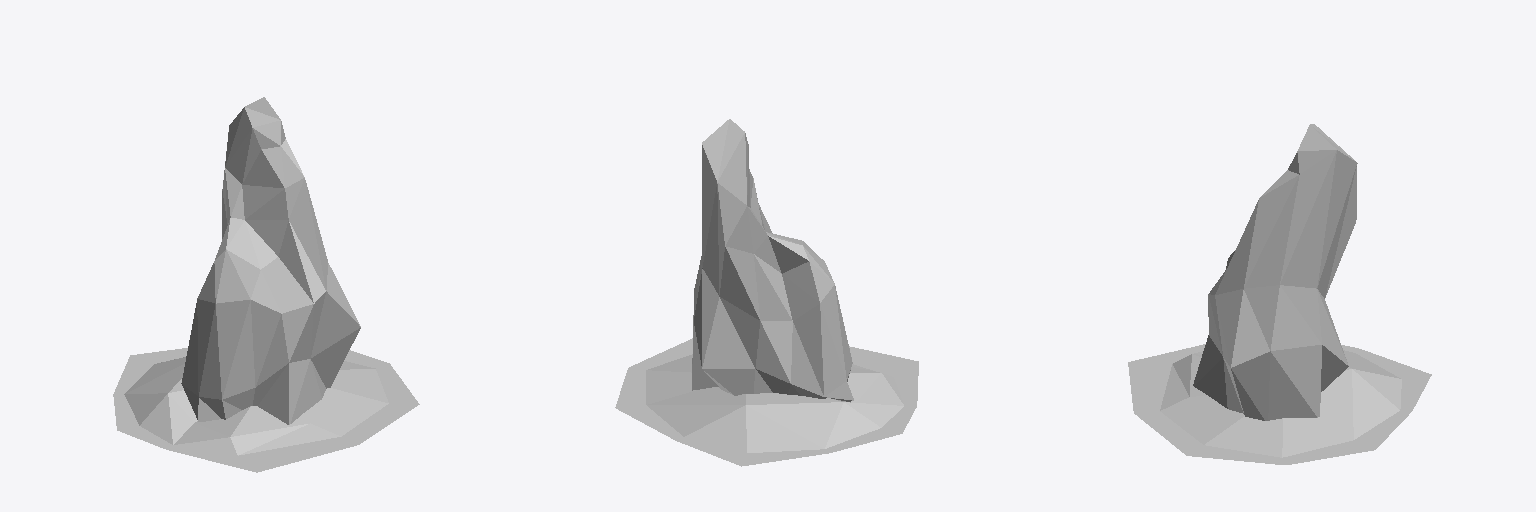
Rendered from Stone_Stele.obj.
3 views of the same model, side by side, from view 1: azimuth 30°, elevation 25°; view 2: azimuth 150°, elevation 25°; view 3: azimuth 270°, elevation 25° (orthographic).
Visible parts, largest first — view 1: Stone; view 2: Stone; view 3: Stone.
Part boxes in pixels (left/top/right/bottom): Stone: left=113, top=97, right=419, bottom=472; Stone: left=615, top=119, right=918, bottom=466; Stone: left=1128, top=124, right=1431, bottom=464.
Size of the model in its own units: 0.7007 by 0.6997 by 0.6749.